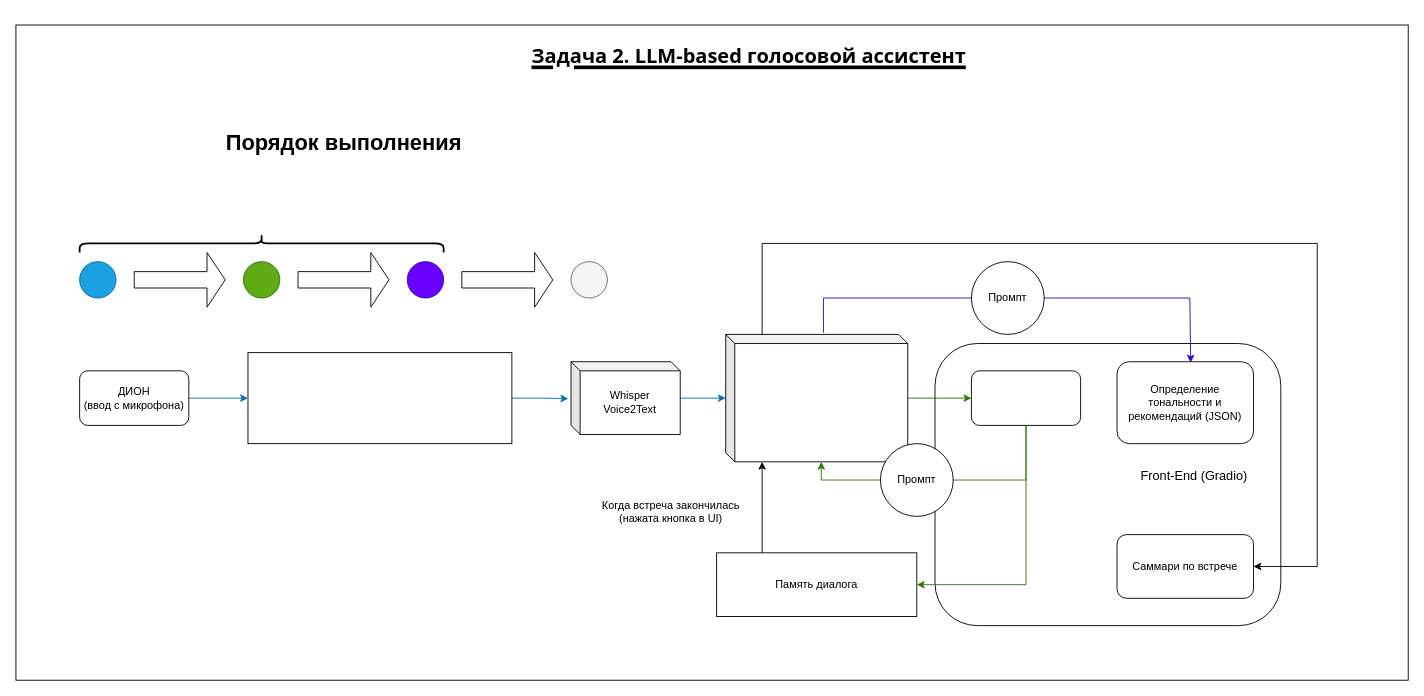
This 1424x696 diagram has some shape labels left out. The shapes that lost their labels are listed below. From the top down, each one's box as (x1, y1, x2, y2) in pixels, then its label:
(78, 233, 444, 253): Выполняется итеративно каждые N секунд до завершения встречи
(247, 352, 512, 444): Буфер (Добавляем новую запись каждые N секунд)
(725, 334, 908, 462): LLM 4o-mini (MVP)
(971, 370, 1081, 425): Нормализация диалога
